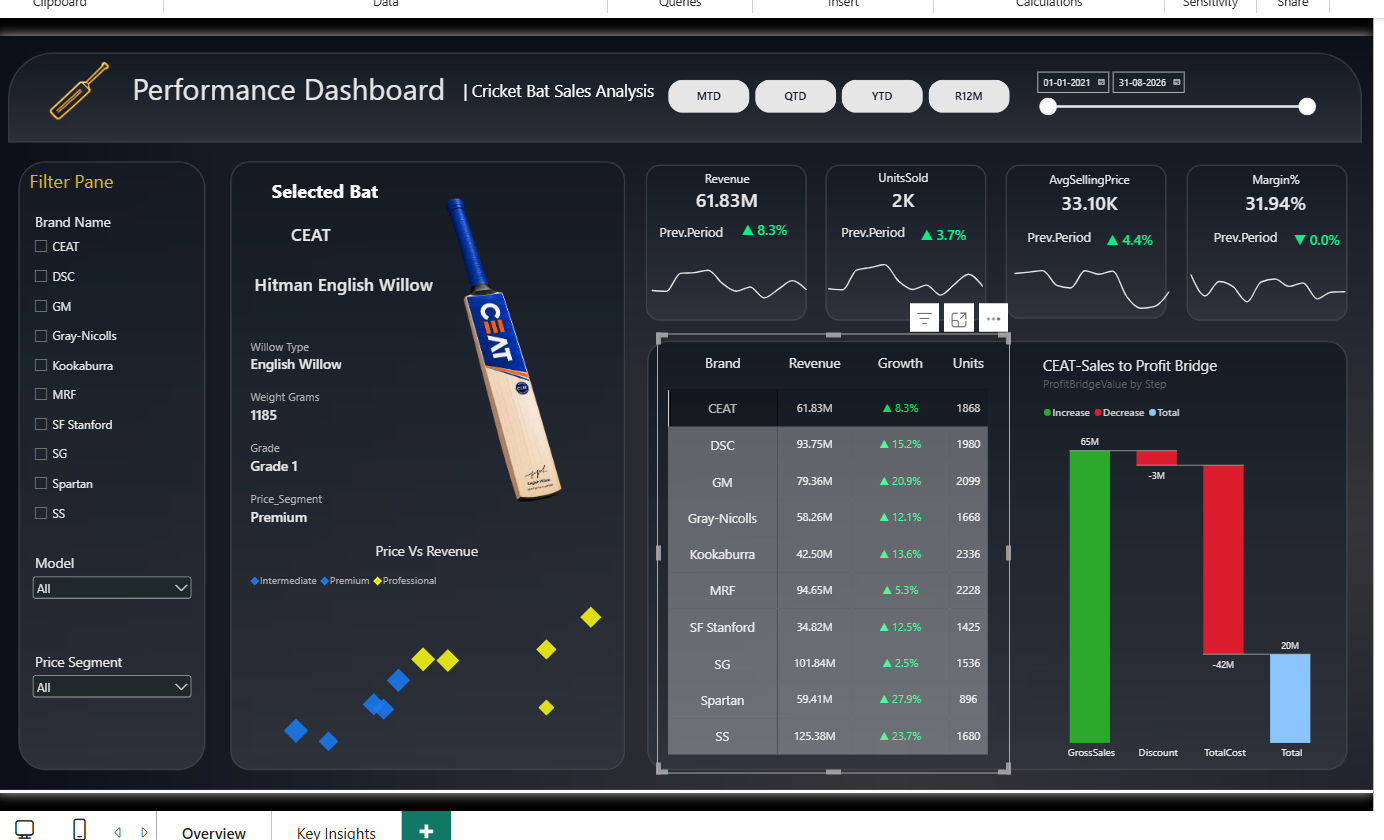

Layout of this report page (visuals, bound fields, positions):
{"tool":"powerbi","page":{"name":"Overview","canvas":[2000,1100],"ordinal":0},"visuals":[{"type":"textbox","box":[176,48,496,64],"z":0},{"type":"cardVisual","fields":{"Data":["All Measures].Selcted Period Revenue"]},"box":[960,176,200,100],"z":0,"group":"g1"},{"type":"cardVisual","fields":{"Data":["All Measures].Selcted Period UnitsSold"]},"box":[1216,176,200,99.6],"z":0,"group":"g7"},{"type":"cardVisual","fields":{"Data":["All Measures].Selcted Period AvgSellingPrice"]},"box":[1488,176,200,106.7],"z":0,"group":"g8"},{"type":"cardVisual","fields":{"Data":["All Measures].Selcted Period Margin%"]},"box":[1760,176,200,106.7],"z":0,"group":"g9"},{"type":"image","box":[64,32,112,96],"z":1000},{"type":"cardVisual","fields":{"Data":["All Measures].Revenue Growth Display"]},"box":[1056,256,120,50],"z":1000,"group":"g1"},{"type":"cardVisual","fields":{"Data":["All Measures].Units Growth Display"]},"box":[1312,256,128,64],"z":1000,"group":"g7"},{"type":"cardVisual","fields":{"Data":["All Measures].AvgSellingPrice Growth Display"]},"box":[1584,261.7,128,68.6],"z":1000,"group":"g8"},{"type":"cardVisual","fields":{"Data":["All Measures].Margin Change Display"]},"box":[1856,261.7,128,68.6],"z":1000,"group":"g9"},{"type":"textbox","box":[672,64,288,48],"z":2000},{"type":"textbox","box":[960,272,96,32],"z":2000,"group":"g1"},{"type":"textbox","box":[1216,272,112,32],"z":2000,"group":"g7"},{"type":"textbox","box":[1488,278.9,112,34.3],"z":2000,"group":"g8"},{"type":"textbox","box":[1760,278.9,112,34.3],"z":2000,"group":"g9"},{"type":"advancedSlicerVisual","fields":{"Values":["Period Selector.Period"]},"box":[976,64,496,48],"z":3000},{"type":"lineChart","fields":{"Category":["Dim_Date.Month_Name"],"Y":["All Measures].UnitsSold"]},"box":[1184,303.5,272,95.6],"z":3000,"group":"g7"},{"type":"lineChart","fields":{"Category":["Dim_Date.Month_Name"],"Y":["All Measures].Revenue"]},"box":[928,304,272,96],"z":3000,"group":"g1"},{"type":"lineChart","fields":{"Category":["Dim_Date.Month_Name"],"Y":["All Measures].AvgSellingPrice"]},"box":[1456,312.6,272,102.4],"z":3000,"group":"g8"},{"type":"lineChart","fields":{"Category":["Dim_Date.Month_Name"],"Y":["All Measures].GrossMargin%"]},"box":[1712,320,272,96],"z":3000,"group":"g9"},{"type":"slicer","fields":{"Values":["Dim_Date.Date"]},"box":[1504,48,416,80],"z":4000},{"type":"group","id":"g1","title":"Group 1","box":[928,176,272,224],"z":5000},{"type":"group","id":"g2","title":"Group 1","box":[1184,176,272,223.1],"z":6000},{"type":"group","id":"g3","title":"Group 2","box":[1184,176,272,223.1],"z":6001,"group":"g2"},{"type":"group","id":"g4","title":"Group 2","box":[1456,176,272,239],"z":6001,"group":"g6"},{"type":"group","id":"g5","title":"Group 2","box":[1712,176,272,240],"z":6001,"group":"g10"},{"type":"group","id":"g6","title":"Group 1","box":[1456,176,272,240],"z":7000},{"type":"group","id":"g7","title":"Group 3","box":[1184,176,272,223.1],"z":7001,"group":"g3"},{"type":"group","id":"g8","title":"Group 3","box":[1456,176,272,239],"z":7001,"group":"g4"},{"type":"group","id":"g9","title":"Group 3","box":[1712,176,272,240],"z":7001,"group":"g5"},{"type":"group","id":"g10","title":"Group 1","box":[1712,176,272,240],"z":8000},{"type":"pivotTable","fields":{"Rows":["Vw_Dim_bat.Brand_Name"],"Values":["All Measures].Selcted Period Revenue","All Measures].Revenue Growth Display","All Measures].Selcted Period UnitsSold"]},"box":[960,432,512,640],"z":9000},{"type":"waterfallChart","fields":{"Category":["Profit Bridge.Step"],"Y":["Profit Bridge.ProfitBridgeValue"]},"box":[1504,448,464,624],"z":10000},{"type":"cardVisual","fields":{"Data":["Min(Vw_Dim_bat.Model)"]},"box":[592,192,288,528],"z":11000},{"type":"textbox","box":[352,208,256,48],"z":12000},{"type":"cardVisual","fields":{"Data":["All Measures].Selected Brand Name"]},"box":[352,256,208,64],"z":13000},{"type":"cardVisual","fields":{"Data":["All Measures].Selected Bat Name"]},"box":[336,320,336,80],"z":14000},{"type":"cardVisual","fields":{"Data":["Min(Vw_Dim_bat.Willow_Type)","Min(Vw_Dim_bat.Weight_Grams)","Min(Vw_Dim_bat.Grade)","Min(Vw_Dim_bat.Price_Segment)"]},"box":[352,432,272,288],"z":15000},{"type":"scatterChart","title":"Price Vs Revenue","fields":{"Category":["Vw_Dim_bat.Brand_Name"],"Series":["Vw_Dim_bat.Price_Segment"],"Size":["All Measures].Selcted Period UnitsSold"],"X":["Vw_Dim_bat.List_Price_INR"],"Y":["All Measures].Selcted Period Revenue"]},"box":[352,720,544,352],"z":16000},{"type":"textbox","box":[48,192,208,48],"z":17000},{"type":"slicer","fields":{"Values":["Vw_Dim_bat.Brand_Name"]},"box":[48,256,240,496],"z":18000},{"type":"slicer","fields":{"Values":["Vw_Dim_bat.Model"]},"box":[48,752,240,96],"z":19000},{"type":"slicer","fields":{"Values":["Vw_Dim_bat.Price_Segment"]},"box":[48,896,240,112],"z":20000}]}

Visuals, with their boxes on the page's 2000x1100 design canvas (x1, y1, x2, y2). These are canvas units, not pixel positions in the 1384x840 screenshot, which may show the page scaled, cropped or inside an application window:
textbox: [176, 48, 672, 112]
cardVisual - All Measures].Selcted Period Revenue: [960, 176, 1160, 276]
cardVisual - All Measures].Selcted Period UnitsSold: [1216, 176, 1416, 276]
cardVisual - All Measures].Selcted Period AvgSellingPrice: [1488, 176, 1688, 283]
cardVisual - All Measures].Selcted Period Margin%: [1760, 176, 1960, 283]
image: [64, 32, 176, 128]
cardVisual - All Measures].Revenue Growth Display: [1056, 256, 1176, 306]
cardVisual - All Measures].Units Growth Display: [1312, 256, 1440, 320]
cardVisual - All Measures].AvgSellingPrice Growth Display: [1584, 262, 1712, 330]
cardVisual - All Measures].Margin Change Display: [1856, 262, 1984, 330]
textbox: [672, 64, 960, 112]
textbox: [960, 272, 1056, 304]
textbox: [1216, 272, 1328, 304]
textbox: [1488, 279, 1600, 313]
textbox: [1760, 279, 1872, 313]
advancedSlicerVisual - Period Selector.Period: [976, 64, 1472, 112]
lineChart - Dim_Date.Month_Name x All Measures].UnitsSold: [1184, 304, 1456, 399]
lineChart - Dim_Date.Month_Name x All Measures].Revenue: [928, 304, 1200, 400]
lineChart - Dim_Date.Month_Name x All Measures].AvgSellingPrice: [1456, 313, 1728, 415]
lineChart - Dim_Date.Month_Name x All Measures].GrossMargin%: [1712, 320, 1984, 416]
slicer - Dim_Date.Date: [1504, 48, 1920, 128]
"Group 1" group: [928, 176, 1200, 400]
"Group 1" group: [1184, 176, 1456, 399]
"Group 2" group: [1184, 176, 1456, 399]
"Group 2" group: [1456, 176, 1728, 415]
"Group 2" group: [1712, 176, 1984, 416]
"Group 1" group: [1456, 176, 1728, 416]
"Group 3" group: [1184, 176, 1456, 399]
"Group 3" group: [1456, 176, 1728, 415]
"Group 3" group: [1712, 176, 1984, 416]
"Group 1" group: [1712, 176, 1984, 416]
pivotTable - Vw_Dim_bat.Brand_Name x All Measures].Selcted Period Revenue: [960, 432, 1472, 1072]
waterfallChart - Profit Bridge.Step x Profit Bridge.ProfitBridgeValue: [1504, 448, 1968, 1072]
cardVisual - Min(Vw_Dim_bat.Model): [592, 192, 880, 720]
textbox: [352, 208, 608, 256]
cardVisual - All Measures].Selected Brand Name: [352, 256, 560, 320]
cardVisual - All Measures].Selected Bat Name: [336, 320, 672, 400]
cardVisual - Min(Vw_Dim_bat.Willow_Type) x Min(Vw_Dim_bat.Weight_Grams): [352, 432, 624, 720]
"Price Vs Revenue" scatterChart: [352, 720, 896, 1072]
textbox: [48, 192, 256, 240]
slicer - Vw_Dim_bat.Brand_Name: [48, 256, 288, 752]
slicer - Vw_Dim_bat.Model: [48, 752, 288, 848]
slicer - Vw_Dim_bat.Price_Segment: [48, 896, 288, 1008]
